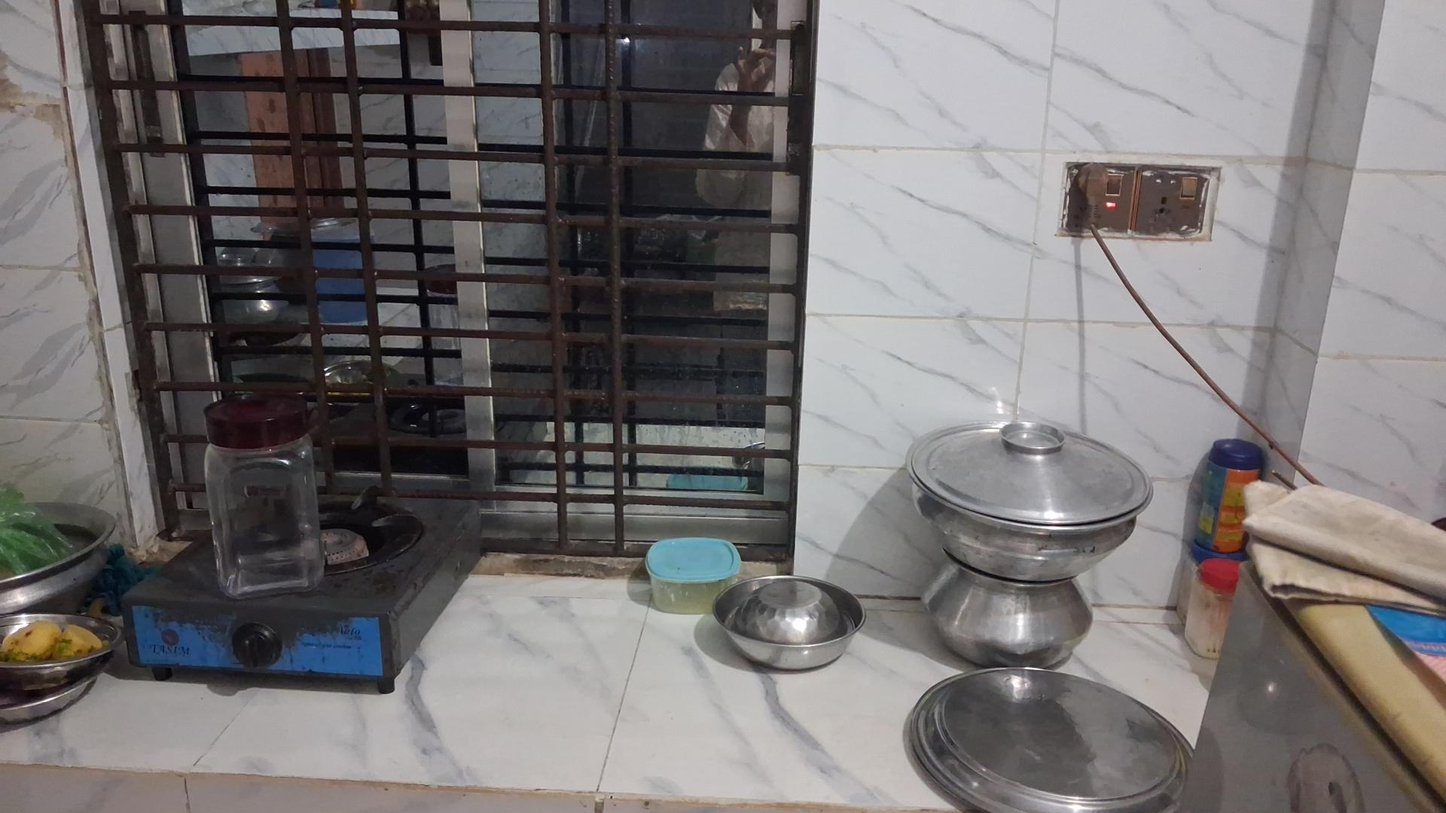Bowl: (713, 574, 865, 671), (0, 497, 119, 618), (0, 613, 123, 726)
Food: (13, 617, 96, 662)
Jar: (197, 391, 332, 598), (645, 536, 743, 614), (1202, 435, 1264, 551), (1180, 559, 1239, 654)
Plate: (910, 667, 1198, 813)
Pot: (902, 423, 1149, 579), (924, 563, 1097, 660)
Window: (67, 5, 801, 558)
